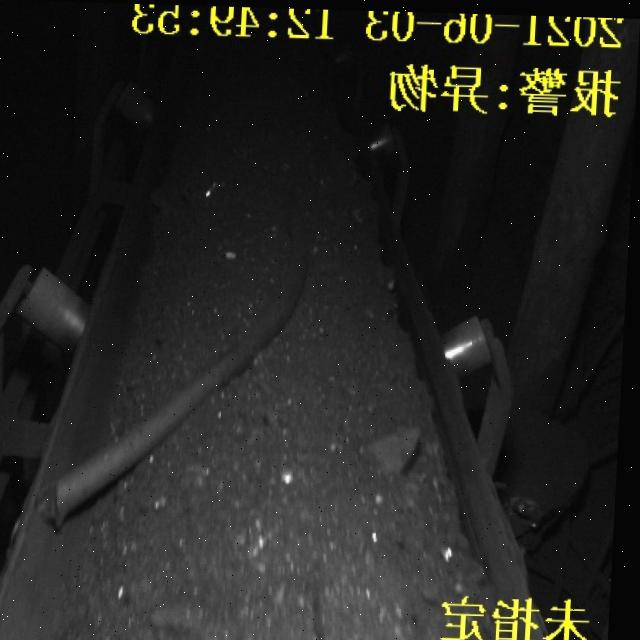bolt: (58, 194, 324, 529)
